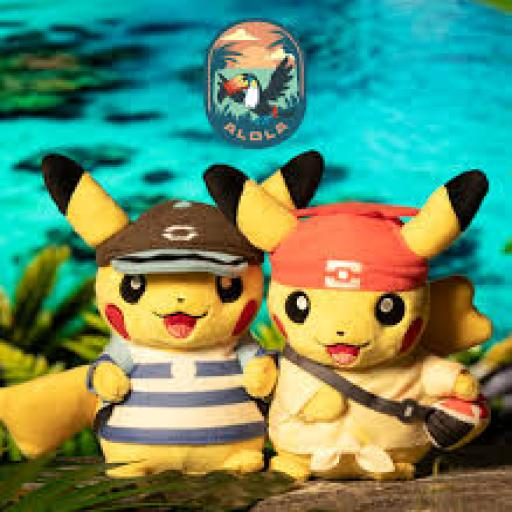Pikachu: (0, 150, 324, 478), (203, 163, 493, 483)
